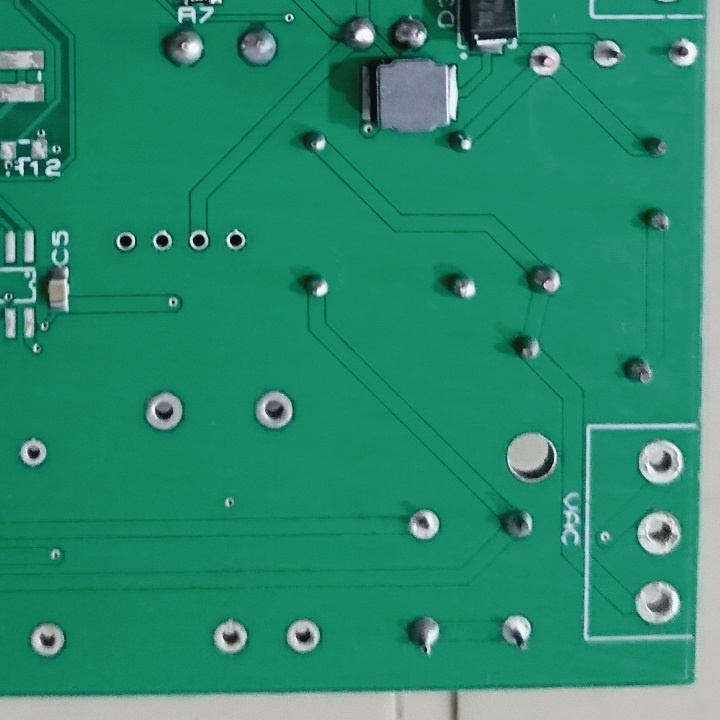F: (635, 435, 686, 487), (635, 509, 687, 559), (634, 576, 684, 627), (252, 386, 296, 434), (139, 389, 185, 433), (500, 609, 541, 658), (27, 618, 70, 661), (210, 615, 250, 658), (284, 615, 324, 657), (527, 41, 562, 79), (666, 36, 702, 72), (406, 506, 441, 543), (592, 36, 626, 68), (17, 438, 52, 469), (114, 229, 139, 253), (150, 229, 176, 252), (224, 228, 247, 253), (187, 229, 212, 250)
